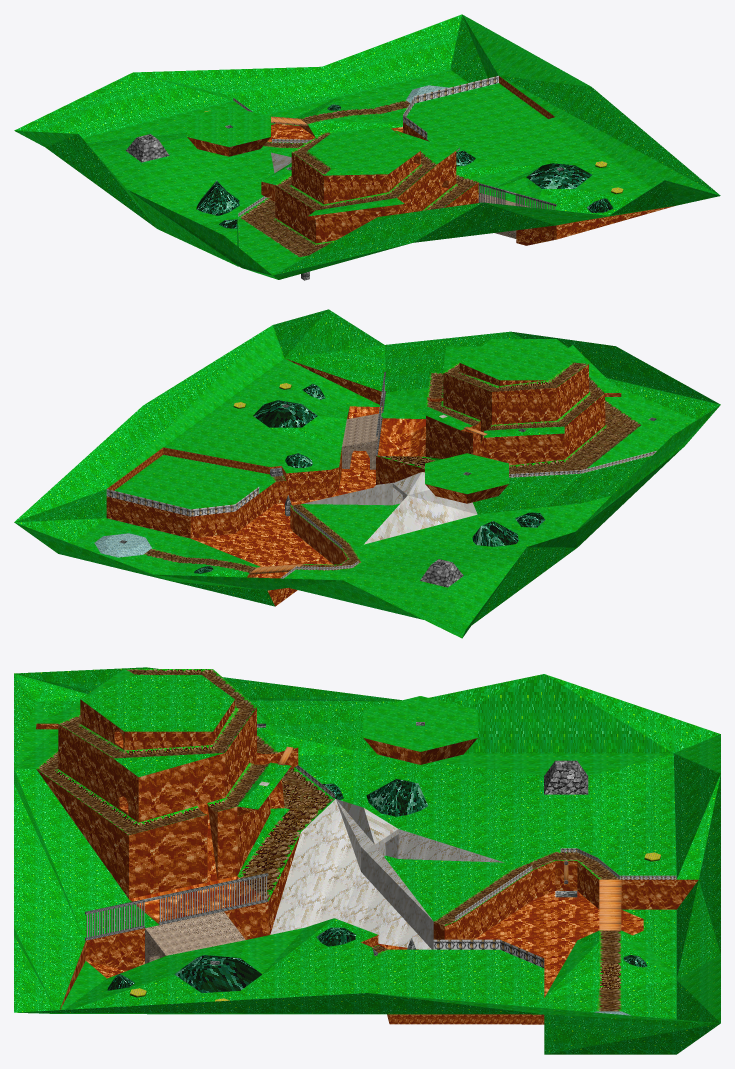
File: bobomb.obj
3 views of the same model, one above another, from view 1: azimuth 30°, elevation 25°; view 2: azimuth 150°, elevation 25°; view 3: azimuth 270°, elevation 25° (orthographic). The views are drawn at different scales.
Parts seen in each view (by area): view 1: Shape_IndexedFaceSet.009, Shape_IndexedFaceSet.022, Shape_IndexedFaceSet.024, Shape_IndexedFaceSet.025, Shape_IndexedFaceSet.014, Shape_IndexedFaceSet.027, Shape_IndexedFaceSet.065, Shape_IndexedFaceSet.010, Shape_IndexedFaceSet.017, Shape_IndexedFaceSet.064; view 2: Shape_IndexedFaceSet.009, Shape_IndexedFaceSet.022, Shape_IndexedFaceSet.024, Shape_IndexedFaceSet.016, Shape_IndexedFaceSet.025, Shape_IndexedFaceSet.014, Shape_IndexedFaceSet.065, Shape_IndexedFaceSet.010, Shape_IndexedFaceSet.027, Shape_IndexedFaceSet.015, Shape_IndexedFaceSet.012, Shape_IndexedFaceSet.017 (+1 smaller); view 3: Shape_IndexedFaceSet.009, Shape_IndexedFaceSet.022, Shape_IndexedFaceSet.016, Shape_IndexedFaceSet.024, Shape_IndexedFaceSet.025, Shape_IndexedFaceSet.014, Shape_IndexedFaceSet.010, Shape_IndexedFaceSet.064, Shape_IndexedFaceSet.015, Shape_IndexedFaceSet.065, Shape_IndexedFaceSet.013, Shape_IndexedFaceSet.017 (+2 smaller).
Boxes of the visible parts, x1,y1,x2,y2 form: Shape_IndexedFaceSet.009: (14, 14, 720, 279); Shape_IndexedFaceSet.022: (187, 76, 675, 245); Shape_IndexedFaceSet.024: (262, 127, 455, 216); Shape_IndexedFaceSet.025: (239, 130, 478, 257); Shape_IndexedFaceSet.014: (196, 104, 613, 228); Shape_IndexedFaceSet.027: (244, 200, 328, 256); Shape_IndexedFaceSet.065: (233, 75, 498, 247); Shape_IndexedFaceSet.010: (263, 100, 409, 148); Shape_IndexedFaceSet.017: (125, 134, 459, 162); Shape_IndexedFaceSet.064: (479, 185, 555, 209); Shape_IndexedFaceSet.009: (14, 309, 720, 638); Shape_IndexedFaceSet.022: (106, 359, 621, 606); Shape_IndexedFaceSet.024: (414, 339, 620, 460); Shape_IndexedFaceSet.016: (302, 414, 477, 544); Shape_IndexedFaceSet.025: (376, 361, 641, 469); Shape_IndexedFaceSet.014: (194, 384, 545, 573); Shape_IndexedFaceSet.065: (106, 450, 656, 578); Shape_IndexedFaceSet.010: (143, 475, 361, 573); Shape_IndexedFaceSet.027: (509, 404, 636, 473); Shape_IndexedFaceSet.015: (342, 413, 381, 469); Shape_IndexedFaceSet.012: (94, 533, 151, 557); Shape_IndexedFaceSet.017: (270, 467, 463, 587); Shape_IndexedFaceSet.009: (14, 667, 720, 1054); Shape_IndexedFaceSet.022: (36, 699, 698, 1024); Shape_IndexedFaceSet.016: (259, 781, 504, 949); Shape_IndexedFaceSet.024: (37, 669, 297, 874); Shape_IndexedFaceSet.025: (36, 669, 333, 900); Shape_IndexedFaceSet.014: (107, 779, 647, 992); Shape_IndexedFaceSet.010: (372, 851, 621, 1011); Shape_IndexedFaceSet.064: (86, 876, 267, 937); Shape_IndexedFaceSet.015: (145, 911, 245, 963); Shape_IndexedFaceSet.065: (295, 765, 676, 967); Shape_IndexedFaceSet.013: (85, 722, 577, 964); Shape_IndexedFaceSet.017: (372, 760, 588, 955).
Size of the model in its own units: 16.39 by 4.7 by 16.38.
21 materials, 21 textured.
